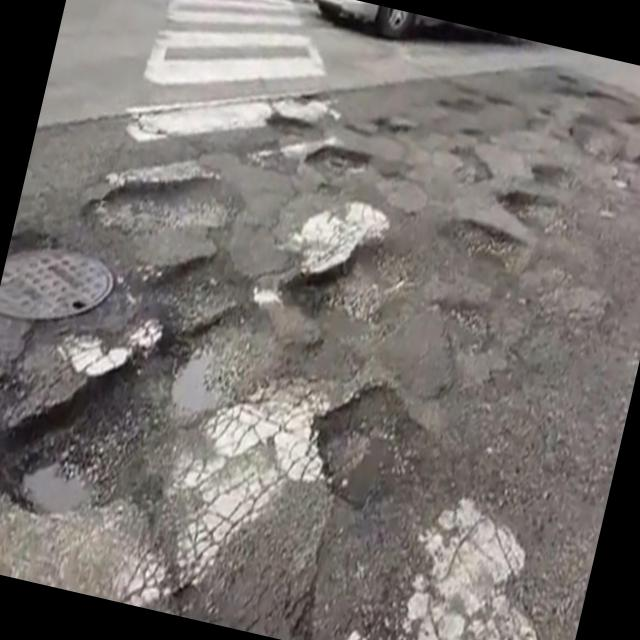Potholes: (235, 321, 631, 640), (0, 333, 208, 580), (138, 183, 270, 413), (78, 146, 260, 296), (261, 226, 437, 372), (409, 186, 556, 328), (485, 144, 596, 280), (546, 95, 640, 211), (280, 118, 378, 210), (543, 66, 640, 145), (428, 125, 510, 207), (251, 92, 333, 170), (438, 74, 516, 134), (363, 100, 429, 160)
